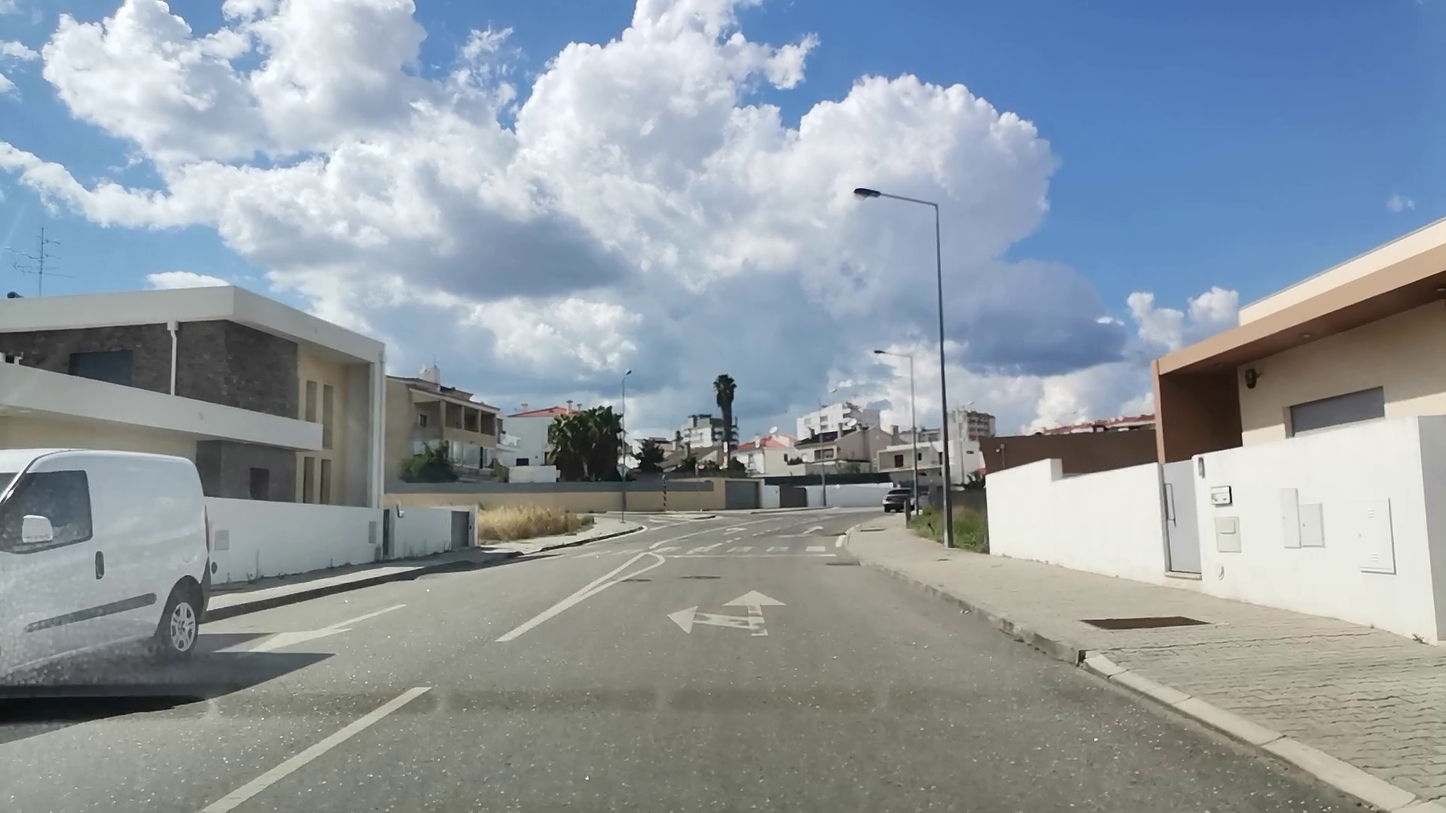Stairs: (562, 539, 847, 560)
